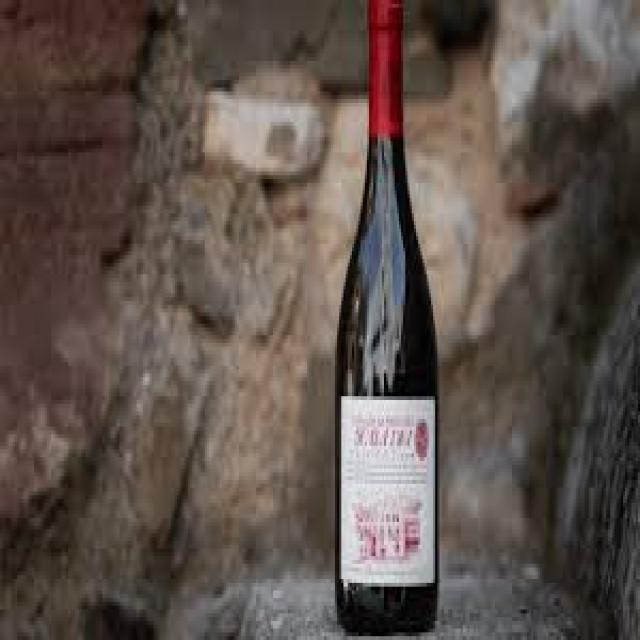Vidrio: (333, 0, 451, 640)
